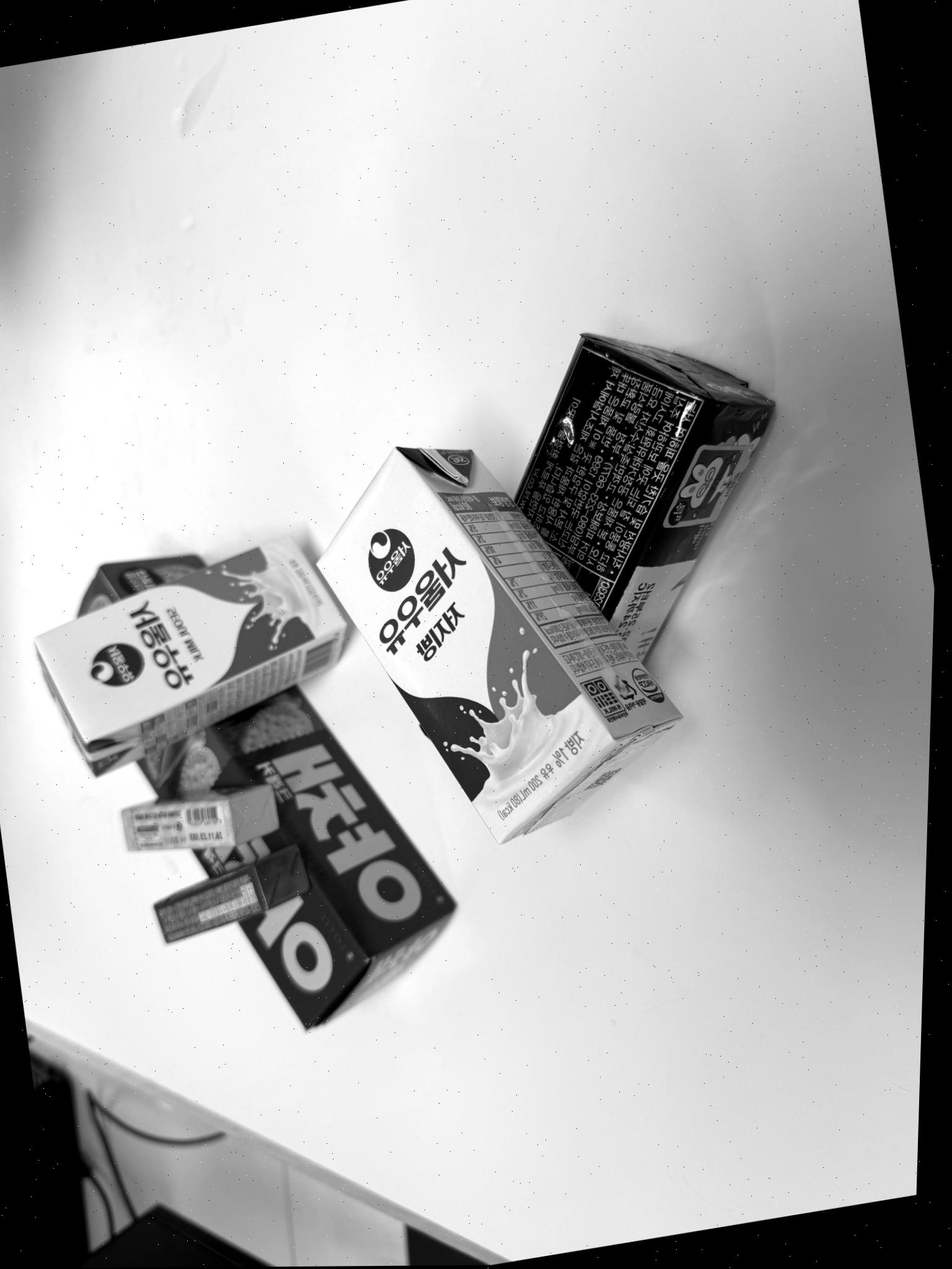cracker_ace: (515, 332, 775, 660)
cracker_vege: (59, 551, 458, 1034)
gum_green: (149, 850, 315, 944)
gum_yellow: (122, 785, 282, 851)
milk_blue: (318, 448, 679, 842)
milk_green: (35, 537, 346, 775)
